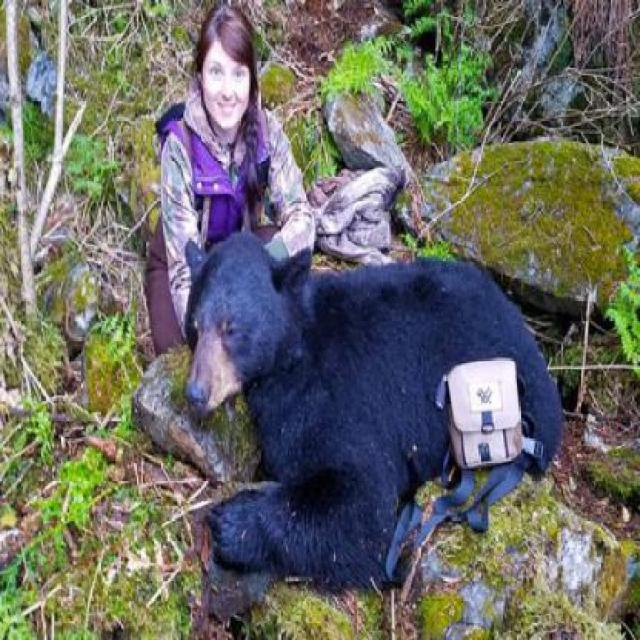Bear: (183, 221, 566, 607)
